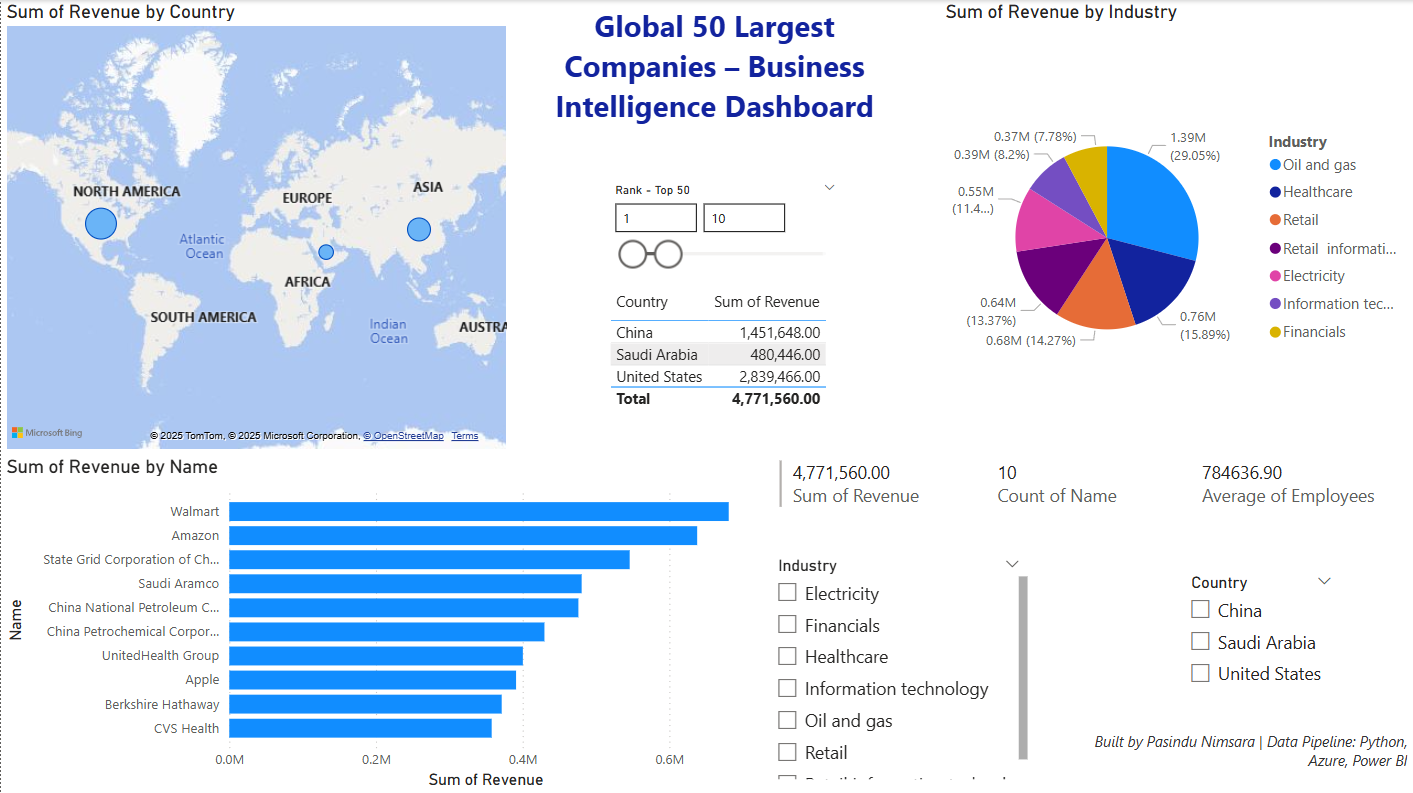

What the dashboard file says about the page in this screenshot:
{"tool":"powerbi","page":{"name":"Page 1","canvas":[1280,720],"ordinal":0},"visuals":[{"type":"map","fields":{"Category":["LargestCompanies.Country"],"Size":["Sum(LargestCompanies.Revenue)"]},"box":[0,0,463,412.4],"z":0},{"type":"clusteredBarChart","fields":{"Category":["LargestCompanies.Name"],"Y":["Sum(LargestCompanies.Revenue)"]},"box":[0,412.4,691.6,307.4],"z":1000},{"type":"pieChart","fields":{"Category":["LargestCompanies.Industry"],"Y":["Sum(LargestCompanies.Revenue)"]},"box":[851.1,0,428.9,412.4],"z":2000},{"type":"multiRowCard","fields":{"Values":["Sum(LargestCompanies.Revenue)","LargestCompanies.Name","Avg(LargestCompanies.Employees)"]},"box":[701.3,412.4,578.7,87.5],"z":3000},{"type":"slicer","fields":{"Values":["LargestCompanies.Industry"]},"box":[691.6,499.9,244.1,212],"z":3001},{"type":"slicer","fields":{"Values":["LargestCompanies.Country"]},"box":[1066,515.5,152.7,122.6],"z":3002},{"type":"slicer","fields":{"Values":["LargestCompanies.Rank"]},"box":[543.7,160.5,224.7,91.4],"z":3003},{"type":"tableEx","fields":{"Values":["LargestCompanies.Country","Sum(LargestCompanies.Revenue)"]},"box":[546.6,258.7,221.8,153.7],"z":3004},{"type":"textbox","box":[463,0,367.7,135.2],"z":3005},{"type":"textbox","box":[980.4,669.2,299.6,50.6],"z":3006}]}

Visuals, with their boxes in screenshot pixels (x1, y1, x2, y2), scaled from the page's 1280x720 canvas onto the 1413x793 screenshot:
map - LargestCompanies.Country x Sum(LargestCompanies.Revenue): select_region(0, 0, 511, 454)
clusteredBarChart - LargestCompanies.Name x Sum(LargestCompanies.Revenue): select_region(0, 454, 763, 792)
pieChart - LargestCompanies.Industry x Sum(LargestCompanies.Revenue): select_region(940, 0, 1412, 454)
multiRowCard - Sum(LargestCompanies.Revenue) x LargestCompanies.Name: select_region(774, 454, 1412, 551)
slicer - LargestCompanies.Industry: select_region(763, 551, 1033, 784)
slicer - LargestCompanies.Country: select_region(1177, 568, 1345, 703)
slicer - LargestCompanies.Rank: select_region(600, 177, 848, 277)
tableEx - LargestCompanies.Country x Sum(LargestCompanies.Revenue): select_region(603, 285, 848, 454)
textbox: select_region(511, 0, 917, 149)
textbox: select_region(1082, 737, 1412, 792)
